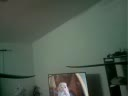window: (98, 1, 128, 96), (1, 1, 29, 65), (71, 44, 98, 94), (31, 2, 56, 21)
